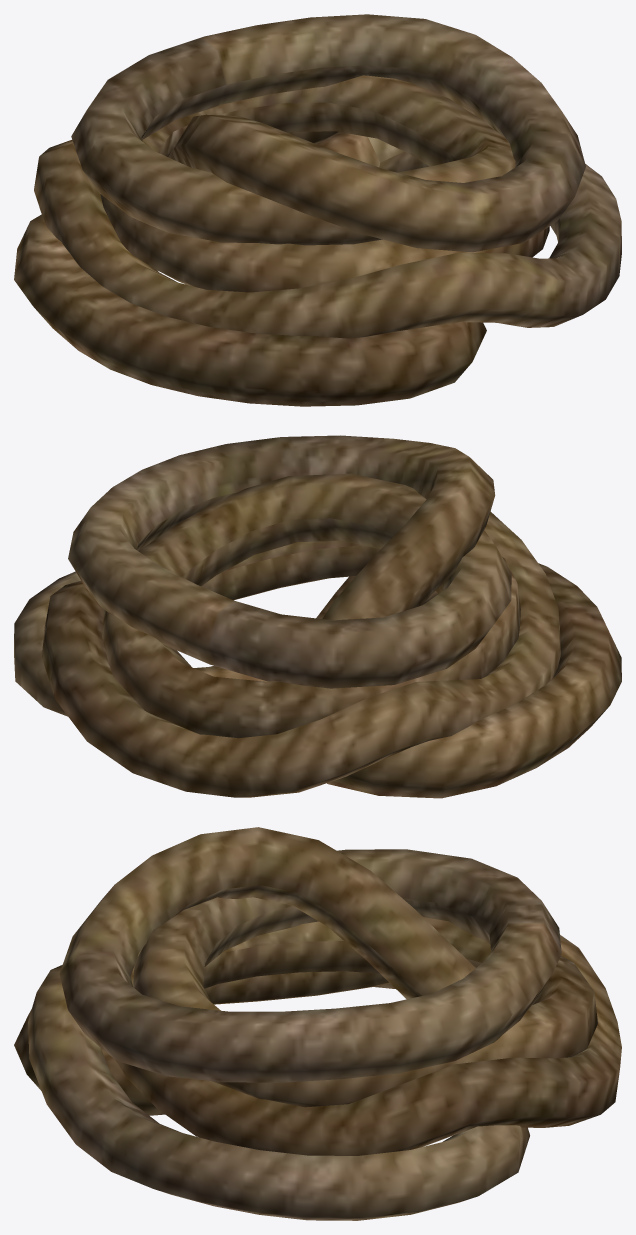
The picture shows the model from 3 angles, top to bottom: view 1: azimuth 30°, elevation 25°; view 2: azimuth 150°, elevation 25°; view 3: azimuth 270°, elevation 25°; orthographic projection. The views are drawn at different scales.
Visible parts, largest first — view 1: SM_Moon_Garou_Rope_01_LOD0; view 2: SM_Moon_Garou_Rope_01_LOD0; view 3: SM_Moon_Garou_Rope_01_LOD0.
Part boxes in pixels (left/top/right/bottom): SM_Moon_Garou_Rope_01_LOD0: left=14, top=14, right=621, bottom=406; SM_Moon_Garou_Rope_01_LOD0: left=14, top=435, right=621, bottom=798; SM_Moon_Garou_Rope_01_LOD0: left=14, top=827, right=621, bottom=1220.
Size of the model in its own units: 0.6239 by 0.2329 by 0.5973.
1 material, 1 textured.
